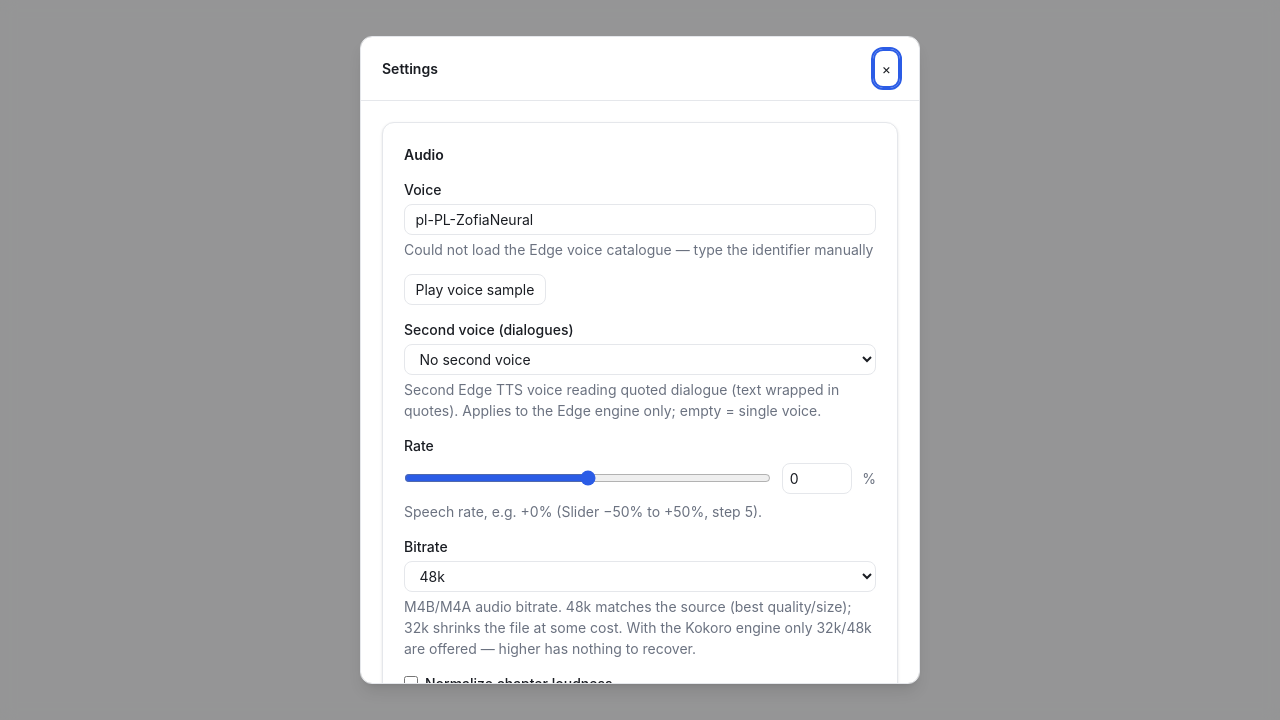
Test: Settings 4.2 — form + persist + i18n › sample error surfaces the backend message
The image size is (1280, 720).
Click the button with test id "settings-sample-play". click: (475, 289)
box: [404,274,546,305]
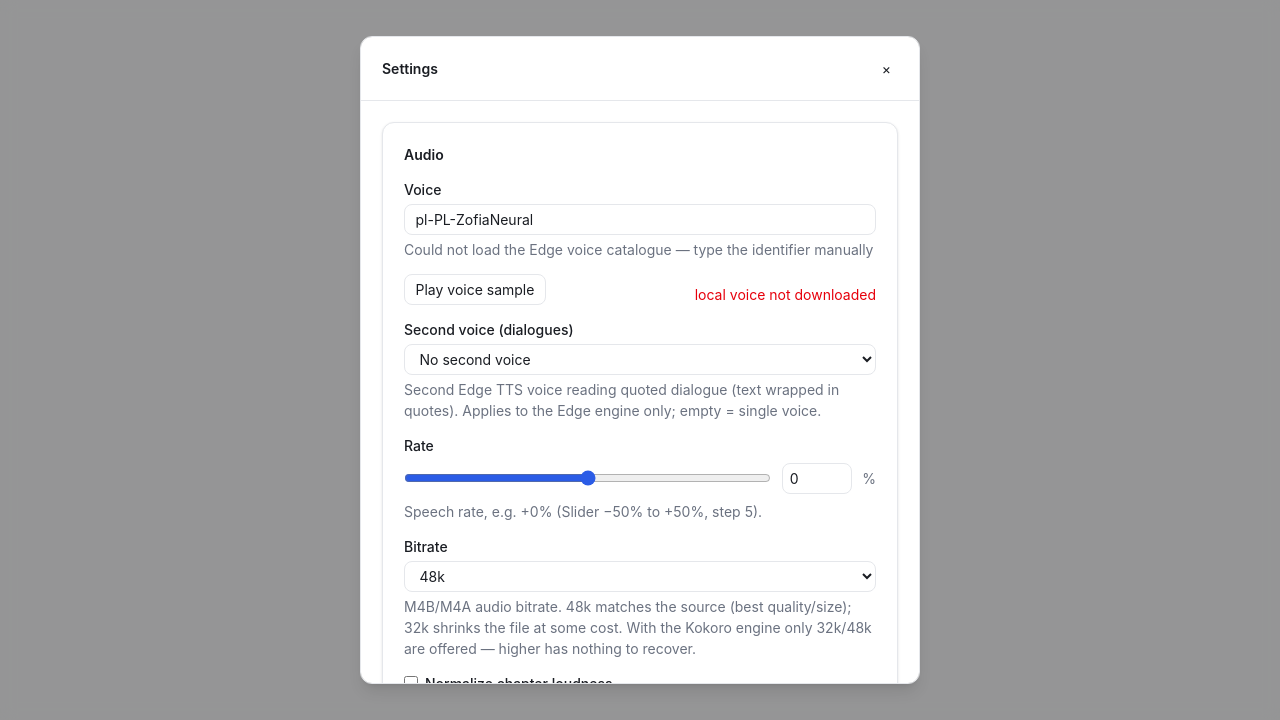
expect the text with test id "settings-sample-error" reads "local voice not downloaded": met, box [695,286,876,303]
